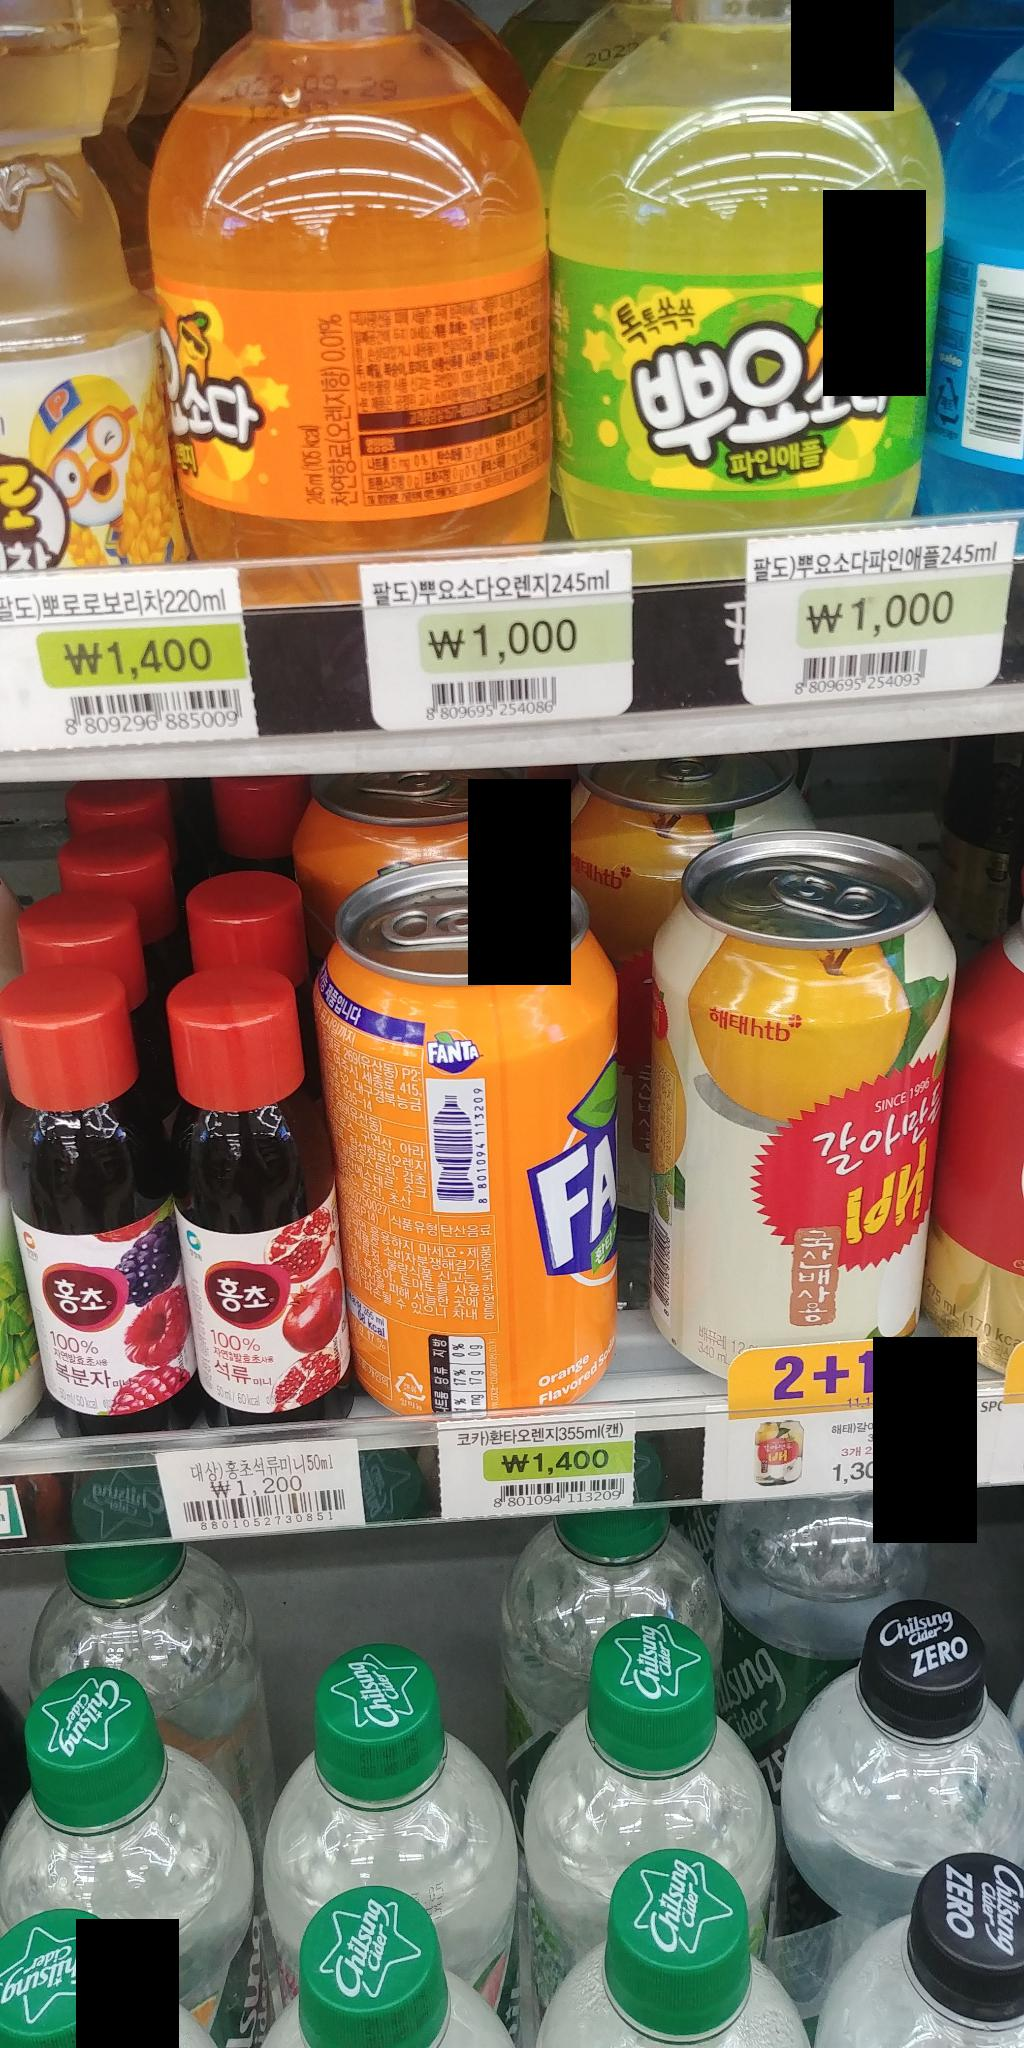fanta_orange: (324, 857, 631, 1420)
